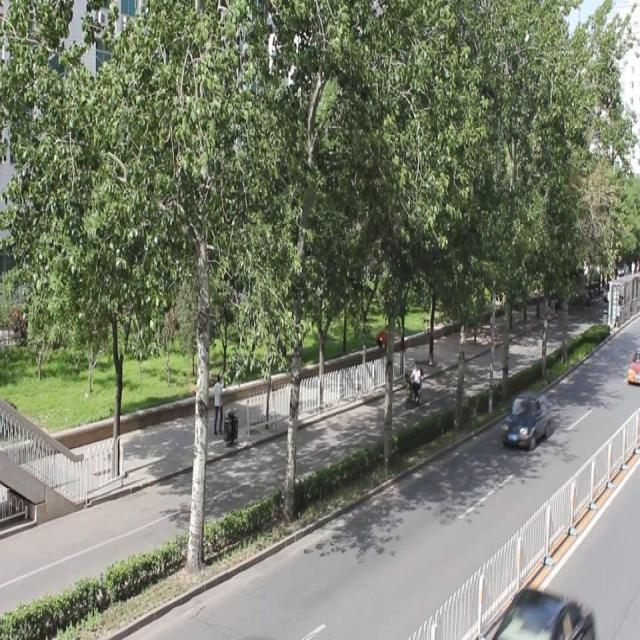car: (501, 393, 549, 447)
